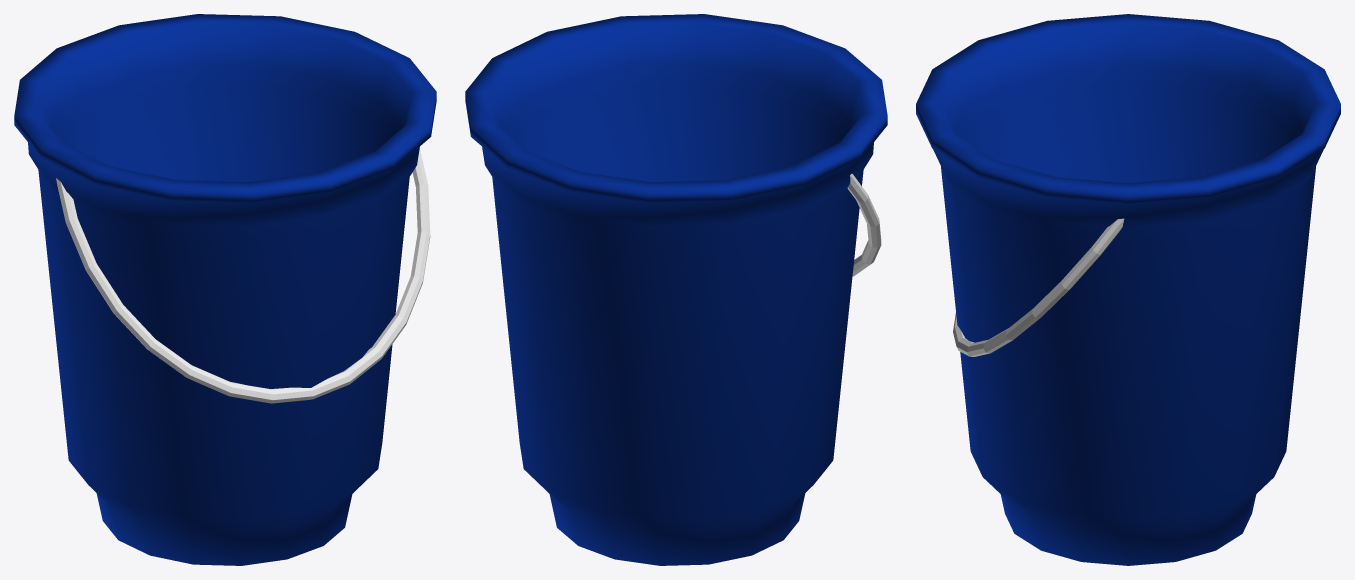
The model's file is Balde.fbx.
3 views of the same model, side by side, from view 1: azimuth 30°, elevation 25°; view 2: azimuth 150°, elevation 25°; view 3: azimuth 270°, elevation 25° (orthographic).
Visible parts, largest first — view 1: CorpoBalde; view 2: CorpoBalde; view 3: CorpoBalde.
Boxes of the visible parts, x1,y1,x2,y2 form: CorpoBalde: [14, 14, 436, 565]; CorpoBalde: [465, 14, 887, 565]; CorpoBalde: [916, 14, 1340, 565].
Size of the model in its own units: 229 by 229 by 244.
